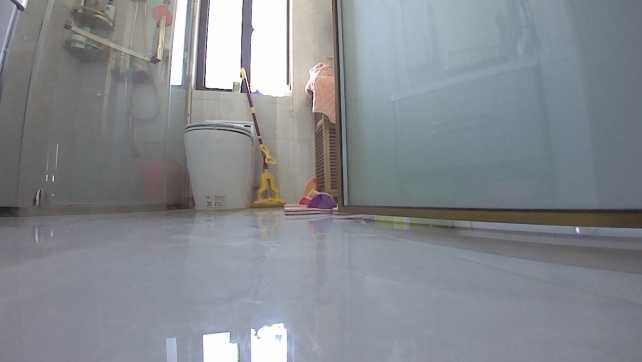slipper: (285, 191, 338, 215)
toilet: (181, 117, 263, 210)
